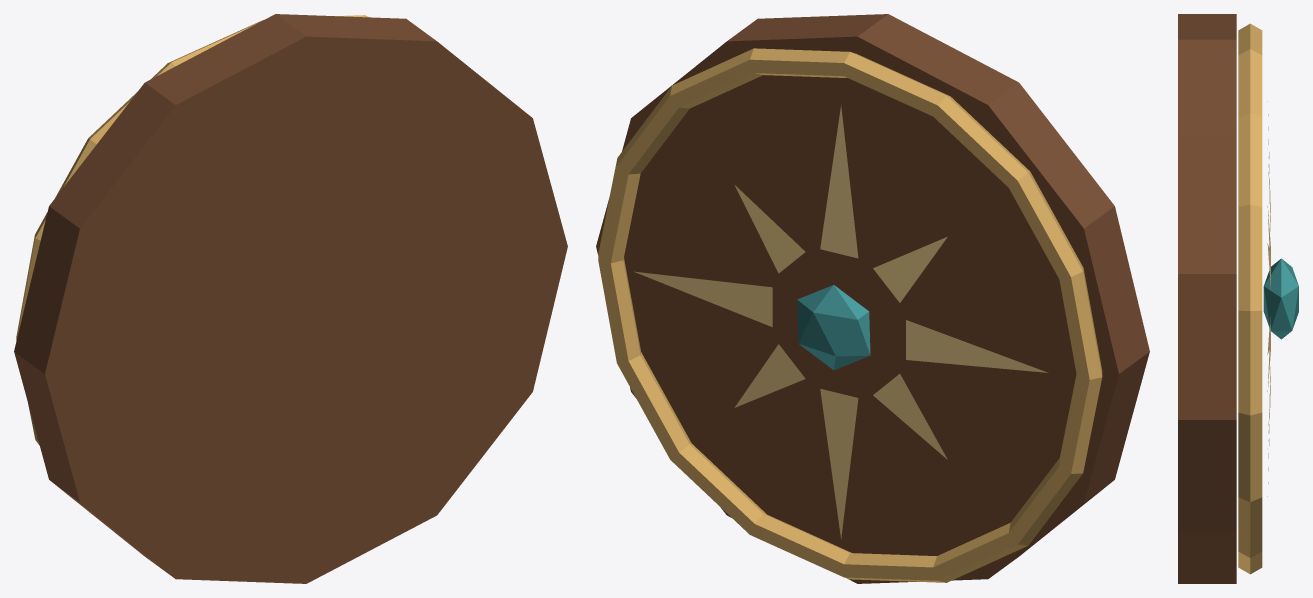
The model's file is compass_crest.glb.
3 views of the same model, side by side, from view 1: azimuth 30°, elevation 25°; view 2: azimuth 150°, elevation 25°; view 3: azimuth 270°, elevation 25° (orthographic). The views are drawn at different scales.
Parts seen in each view (by area): view 1: Carved plaque, Crest rim; view 2: Carved plaque, Crest rim, Compass jewel, Gilded ray, Gilded ray.006, Gilded ray.004, Gilded ray.002, Gilded ray.007, Gilded ray.001, Gilded ray.005, Gilded ray.003; view 3: Carved plaque, Crest rim, Compass jewel.
Boxes of the visible parts, box(x1,y1,x2,y2) form: Carved plaque: box(14, 14, 567, 583); Crest rim: box(16, 15, 368, 445); Carved plaque: box(596, 14, 1149, 583); Crest rim: box(598, 48, 1102, 582); Compass jewel: box(797, 285, 870, 370); Gilded ray: box(820, 105, 858, 258); Gilded ray.006: box(906, 320, 1048, 372); Gilded ray.004: box(820, 389, 858, 539); Gilded ray.002: box(634, 271, 772, 327); Gilded ray.007: box(873, 236, 947, 302); Gilded ray.001: box(734, 185, 805, 273); Gilded ray.005: box(873, 374, 947, 459); Gilded ray.003: box(734, 344, 805, 407); Carved plaque: box(1178, 14, 1236, 583); Crest rim: box(1238, 23, 1262, 574); Compass jewel: box(1263, 258, 1298, 339).
Size of the model in its own units: 1.66 by 1.66 by 0.351.
